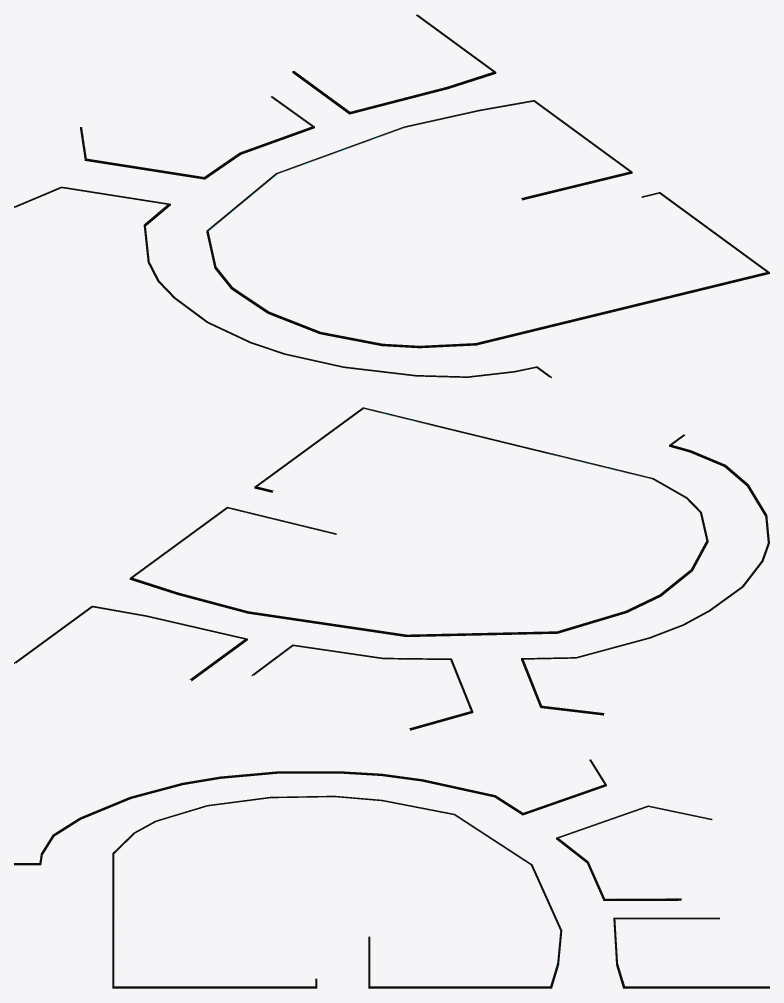
Rendered from downtown_curb_tests.fbx.
3 renders of one model, top to bottom at view 1: azimuth 30°, elevation 25°; view 2: azimuth 150°, elevation 25°; view 3: azimuth 270°, elevation 25°, orthographic. The views are drawn at different scales.
Parts seen in each view (by area): view 1: Line033, Line034, Line037, Line036, Line035, Line039, Line038; view 2: Line034, Line033, Line035, Line037, Line036, Line038, Line039; view 3: Line034, Line033, Line039, Line036, Line038, Line035, Line037.
Part boxes in pixels (left/top/right/bottom): Line033: left=419, top=192, right=769, bottom=348; Line034: left=206, top=126, right=419, bottom=348; Line037: left=80, top=96, right=314, bottom=179; Line036: left=292, top=14, right=496, bottom=114; Line035: left=405, top=100, right=632, bottom=200; Line039: left=173, top=297, right=551, bottom=378; Line038: left=14, top=186, right=175, bottom=297; Line034: left=247, top=497, right=708, bottom=636; Line033: left=254, top=407, right=687, bottom=498; Line035: left=129, top=506, right=336, bottom=613; Line037: left=251, top=644, right=473, bottom=730; Line036: left=14, top=605, right=247, bottom=681; Line038: left=521, top=610, right=710, bottom=715; Line039: left=669, top=434, right=769, bottom=610; Line034: left=134, top=795, right=561, bottom=930; Line033: left=112, top=832, right=317, bottom=988; Line039: left=14, top=771, right=341, bottom=865; Line036: left=613, top=917, right=769, bottom=988; Line038: left=341, top=759, right=606, bottom=815; Line035: left=368, top=930, right=562, bottom=988; Line037: left=556, top=805, right=712, bottom=900.
Size of the model in its own units: 4798 by 16.76 by 6735.
